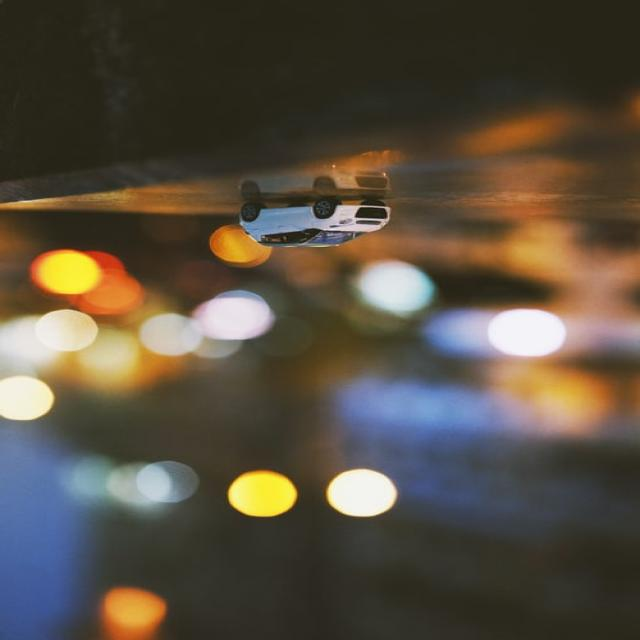Car: (239, 197, 393, 249)
